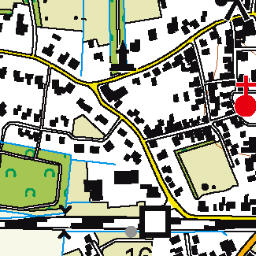church: (230, 73, 256, 119)
